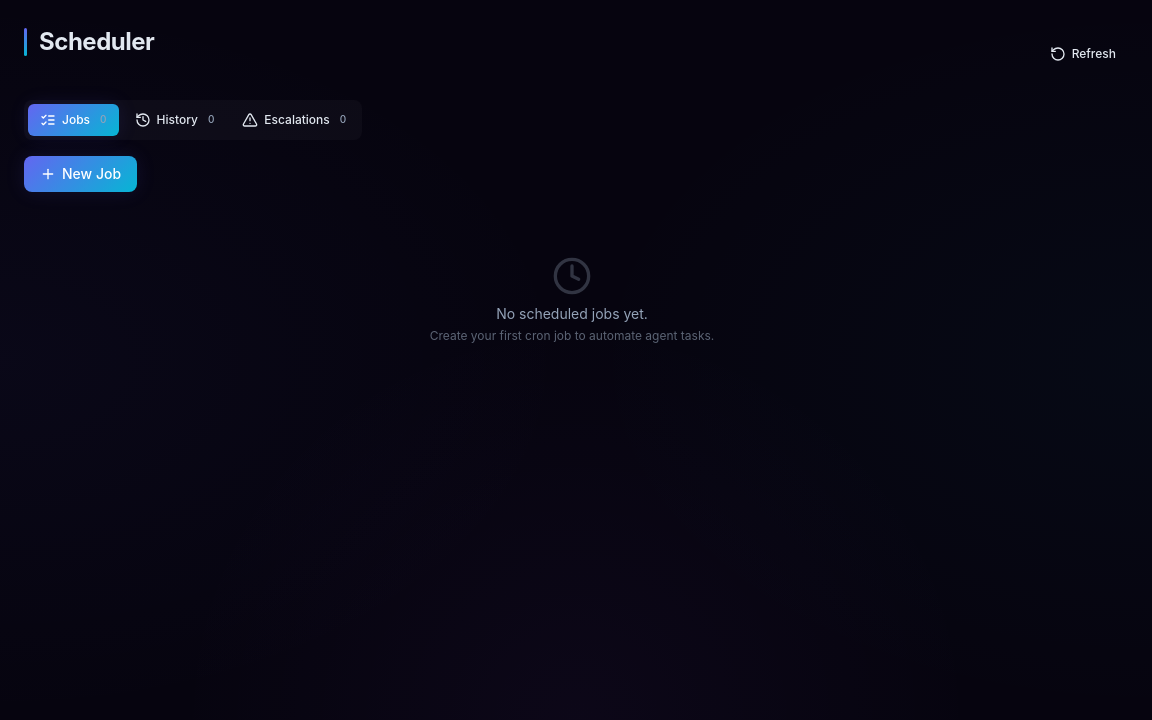
Scenario: Scheduler Page › shows auto-approve and enabled checkboxes in dialog
Click the button "New Job" at x=81, y=174, box [24,156,137,192]
(page scrolled)
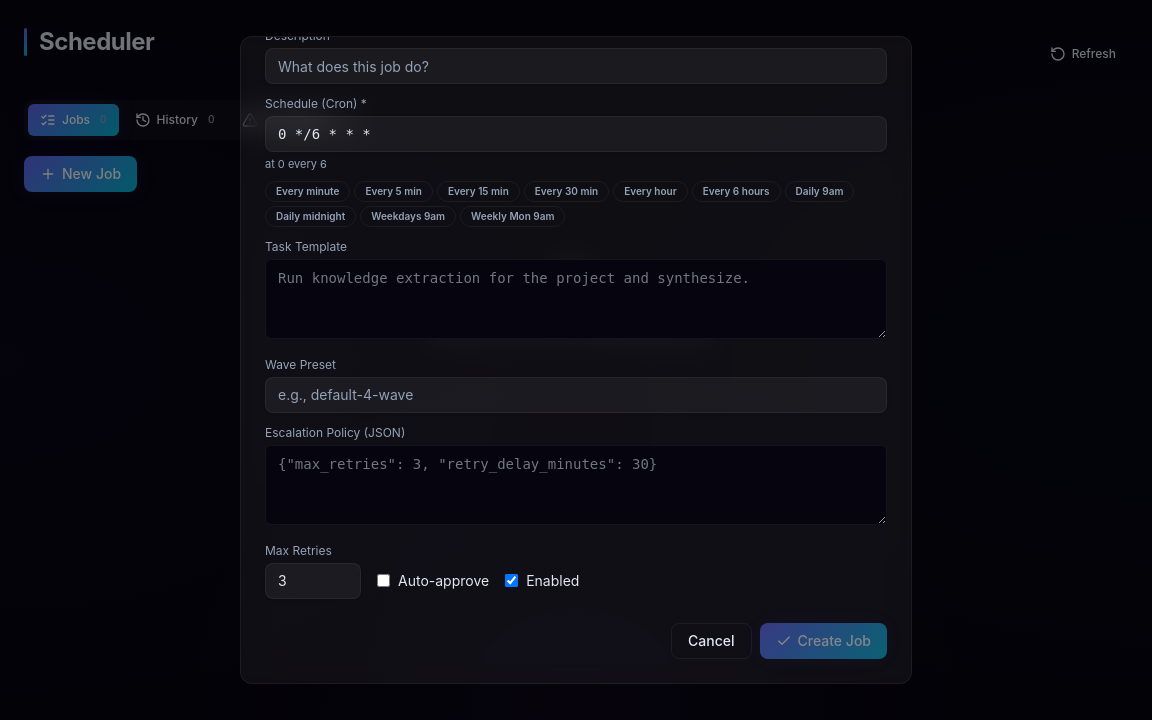
Expected: the text "Auto-approve" is shown, [398,570,489,590]
Expected: the text "Enabled" is shown, [526,570,579,590]
